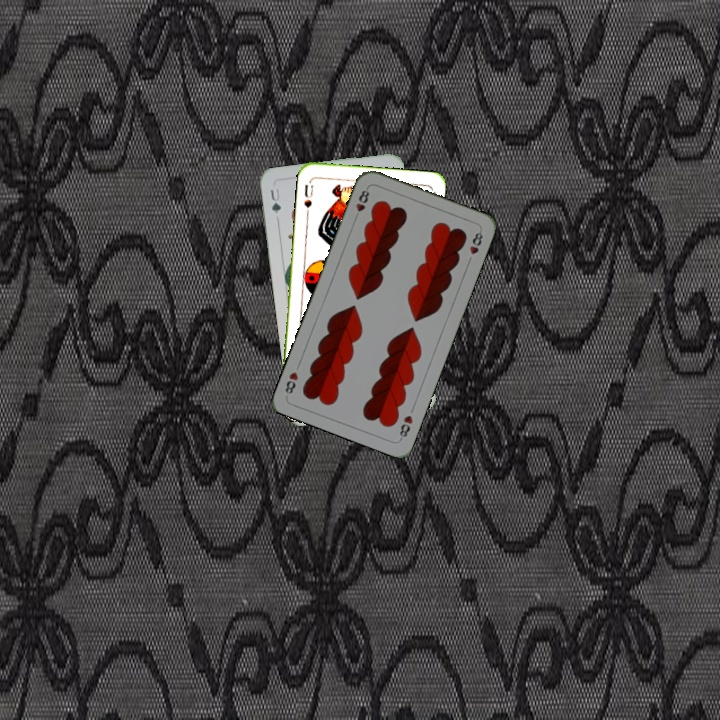GU: (266, 184, 284, 216)
H8: (350, 184, 372, 223), (395, 411, 415, 442)
SU: (300, 181, 316, 210)
